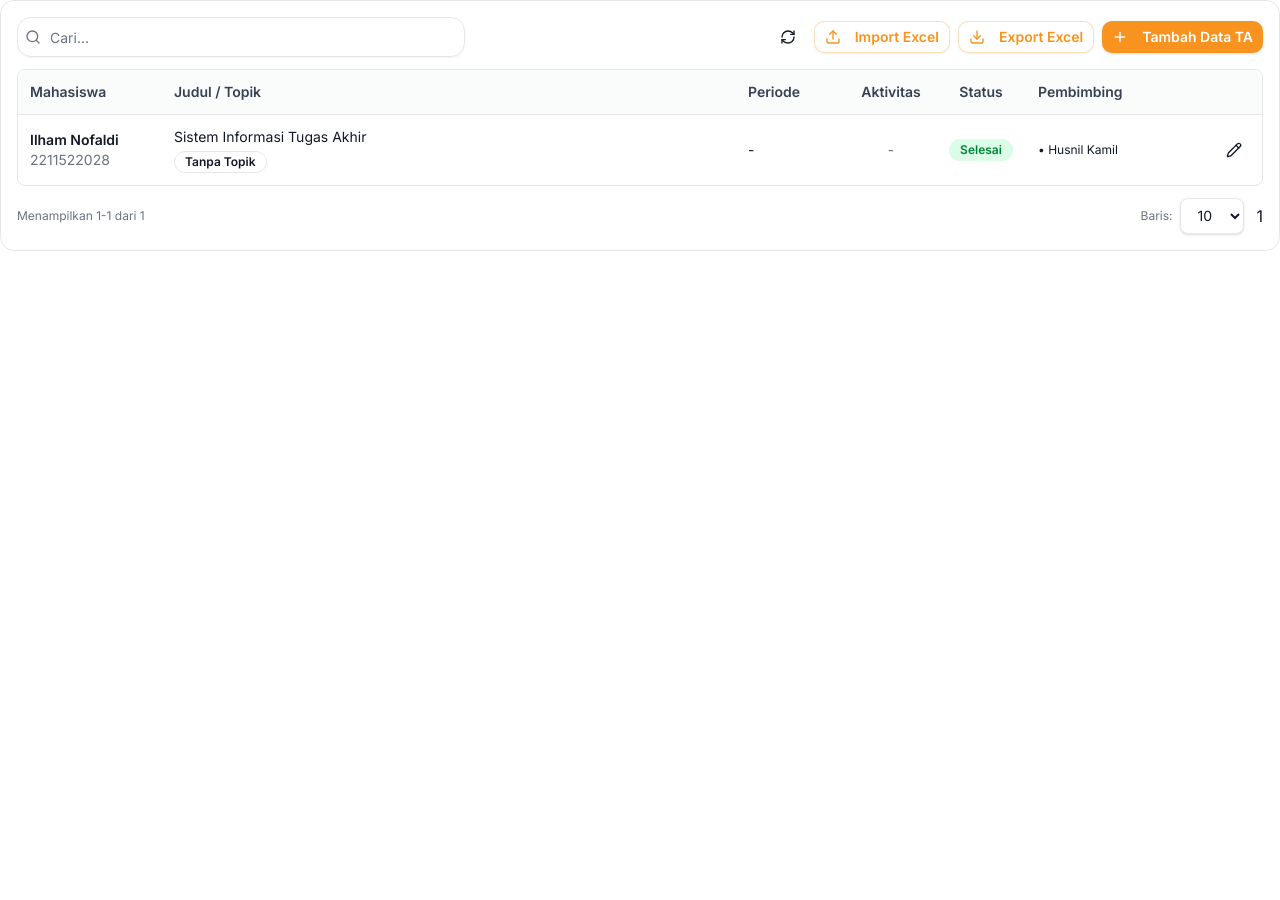
Test case: DataMasterTaPanel form › says a closed thesis cannot change any more
This screenshot has width=1280, height=900.
Expected: the text "Sistem Informasi Tugas Akhir" is shown, [174,128,366,144]
Click the 5th button at (1234, 150), box [1218,134,1250,166]
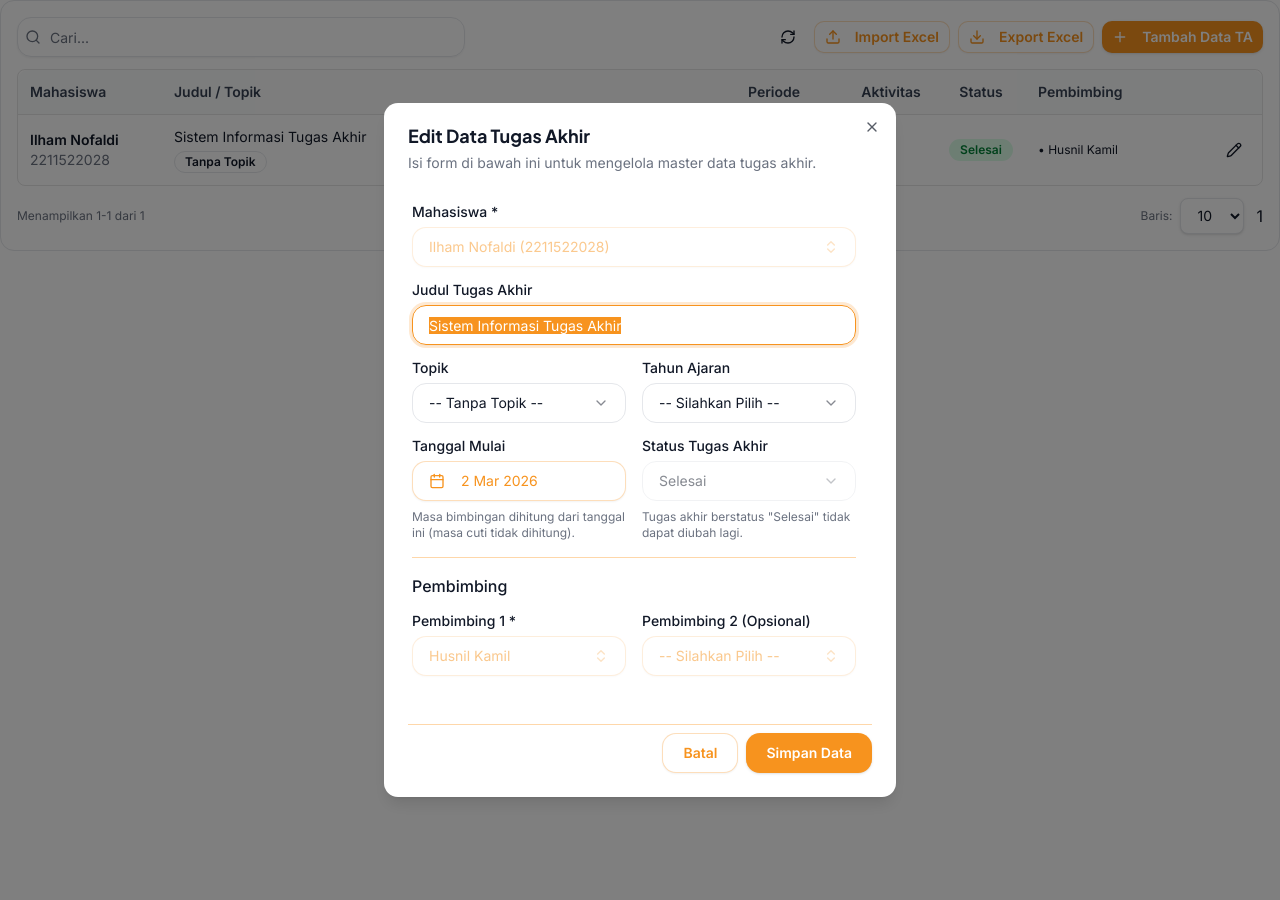
Expected: the text "Tugas akhir berstatus \"Selesai\" tidak dapat diubah lagi." is shown, [642,509,856,541]
